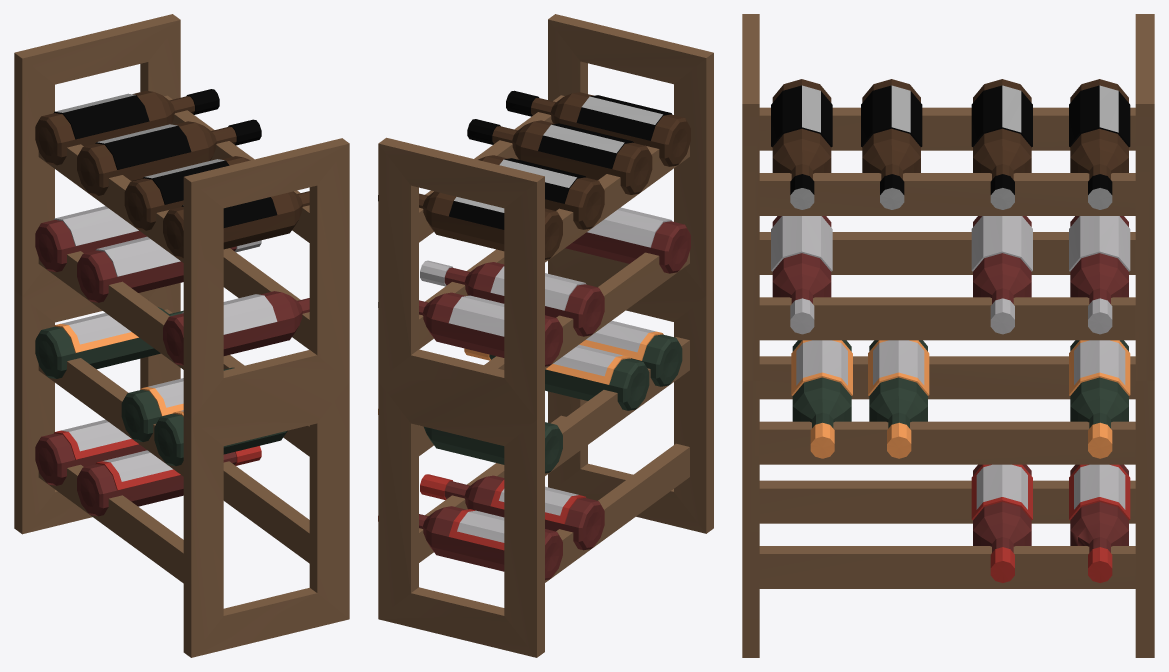
The model's file is SM_wineRacks_01.glb.
The picture shows the model from 3 angles, left to right: view 1: azimuth 30°, elevation 25°; view 2: azimuth 150°, elevation 25°; view 3: azimuth 270°, elevation 25°; orthographic projection. The views are drawn at different scales.
Parts seen in each view (by area): view 1: SM_wineRacks_01; view 2: SM_wineRacks_01; view 3: SM_wineRacks_01.
Part boxes in pixels (<box>): SM_wineRacks_01: <box>14,14,349,657</box>; SM_wineRacks_01: <box>378,14,713,657</box>; SM_wineRacks_01: <box>742,14,1154,657</box>.
Bounding box in the file's own units: 0.5772 × 1.48 × 1.
Materials: 1 (1 with a texture image).
